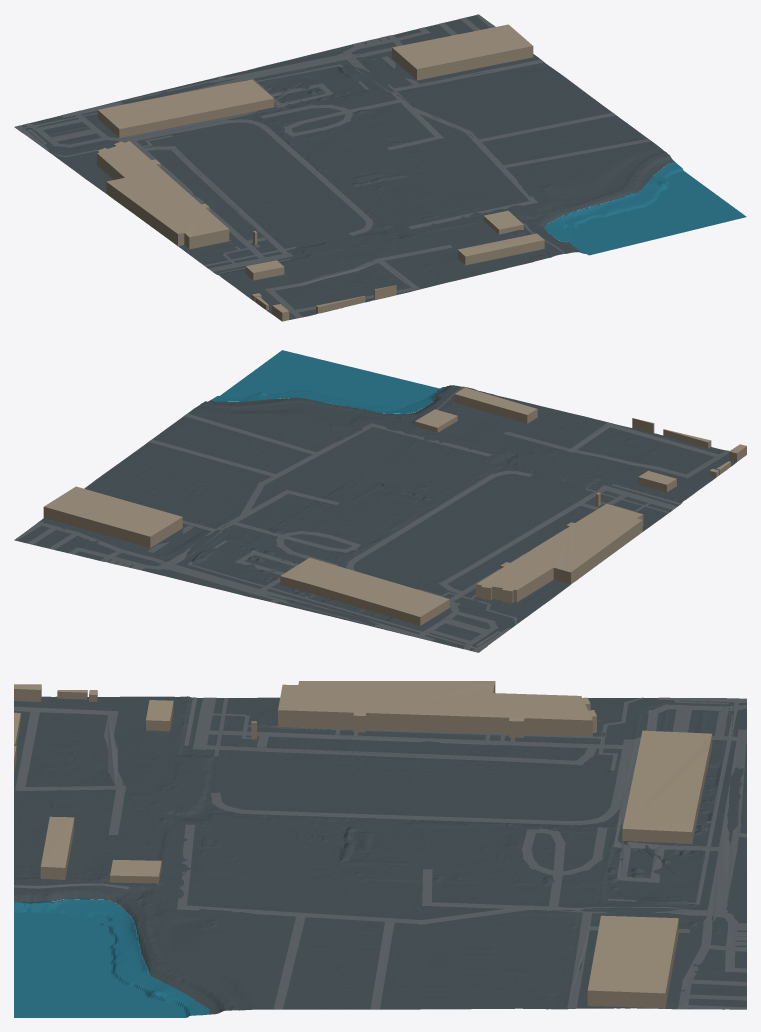
File: epsg26910-1443-10881.lod0.glb
3 views of the same model, one above another, from view 1: azimuth 30°, elevation 25°; view 2: azimuth 150°, elevation 25°; view 3: azimuth 270°, elevation 25° (orthographic). The views are drawn at different scales.
Visible parts, largest first — view 1: epsg26910-1443-10881-lod0; view 2: epsg26910-1443-10881-lod0; view 3: epsg26910-1443-10881-lod0.
Boxes of the visible parts, box(x1,y1,x2,y2) form: epsg26910-1443-10881-lod0: box(14, 14, 746, 321); epsg26910-1443-10881-lod0: box(14, 350, 746, 652); epsg26910-1443-10881-lod0: box(14, 681, 746, 1017).
Size of the model in its own units: 384 by 15.8 by 384.
